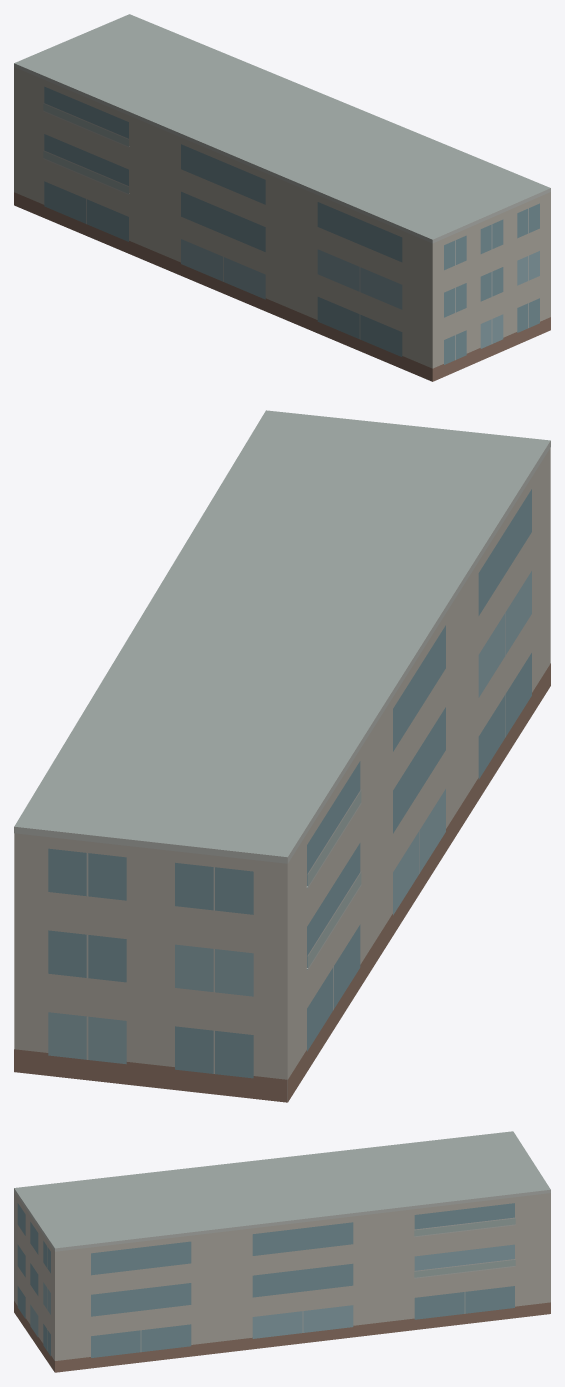
Rendered from survey-upis-33033055.glb.
3 views of the same model, one above another, from view 1: azimuth 30°, elevation 25°; view 2: azimuth 150°, elevation 25°; view 3: azimuth 270°, elevation 25° (orthographic). The views are drawn at different scales.
Parts seen in each view (by area): view 1: survey-upis-33033055.tmp; view 2: survey-upis-33033055.tmp; view 3: survey-upis-33033055.tmp.
Part boxes in pixels (<box>): survey-upis-33033055.tmp: <box>14,14,550,381</box>; survey-upis-33033055.tmp: <box>14,410,550,1102</box>; survey-upis-33033055.tmp: <box>14,1131,550,1372</box>.
Size of the model in its own units: 18.52 by 9.15 by 35.83.
